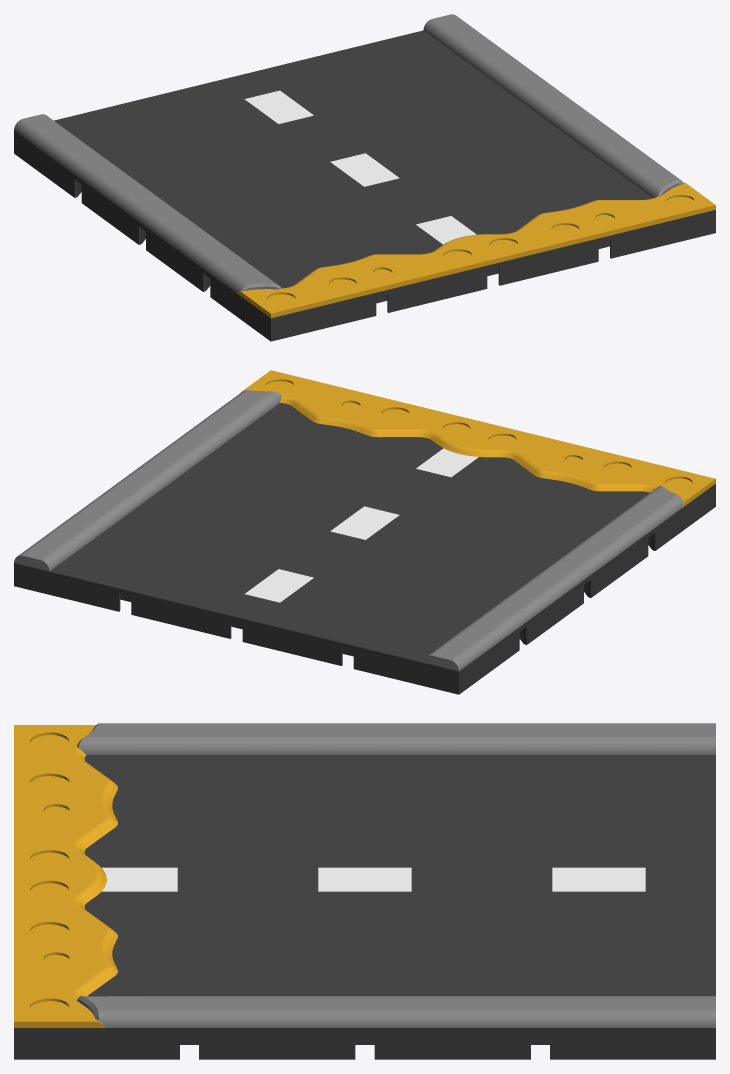
The model's file is 10x10 Street To Sand.obj.
3 views of the same model, one above another, from view 1: azimuth 30°, elevation 25°; view 2: azimuth 150°, elevation 25°; view 3: azimuth 270°, elevation 25° (orthographic). The views are drawn at different scales.
Parts seen in each view (by area): view 1: Körper1:5, Körper1:6, Körper1:3, Körper1, Körper1:2, Körper1:1, Körper1:4; view 2: Körper1:5, Körper1:6, Körper1:3, Körper1, Körper1:1, Körper1:2, Körper1:4; view 3: Körper1:5, Körper1:6, Körper1, Körper1:3, Körper1:1, Körper1:2, Körper1:4.
Boxes of the visible parts, bbox=[...] form: Körper1:5: bbox=[14, 30, 715, 341]; Körper1:6: bbox=[237, 182, 715, 318]; Körper1:3: bbox=[423, 14, 683, 198]; Körper1: bbox=[14, 114, 281, 293]; Körper1:2: bbox=[330, 153, 399, 186]; Körper1:1: bbox=[244, 90, 313, 123]; Körper1:4: bbox=[416, 216, 476, 244]; Körper1:5: bbox=[14, 403, 715, 694]; Körper1:6: bbox=[240, 370, 715, 507]; Körper1:3: bbox=[14, 390, 281, 571]; Körper1: bbox=[423, 485, 683, 671]; Körper1:1: bbox=[245, 569, 313, 602]; Körper1:2: bbox=[330, 506, 399, 539]; Körper1:4: bbox=[416, 448, 478, 477]; Körper1:5: bbox=[14, 755, 715, 1059]; Körper1:6: bbox=[14, 725, 117, 1027]; Körper1: bbox=[77, 723, 715, 754]; Körper1:3: bbox=[77, 996, 715, 1027]; Körper1:1: bbox=[552, 867, 645, 891]; Körper1:2: bbox=[318, 867, 411, 891]; Körper1:4: bbox=[102, 867, 177, 891].
Size of the model in its own units: 100 by 7 by 100.
